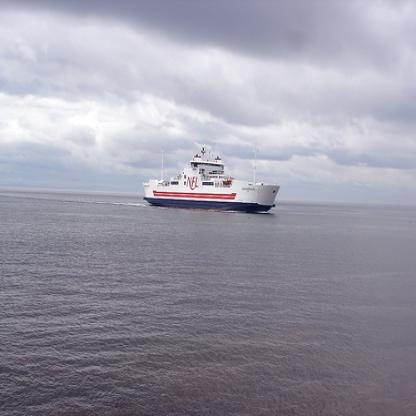boat: (140, 144, 280, 213)
